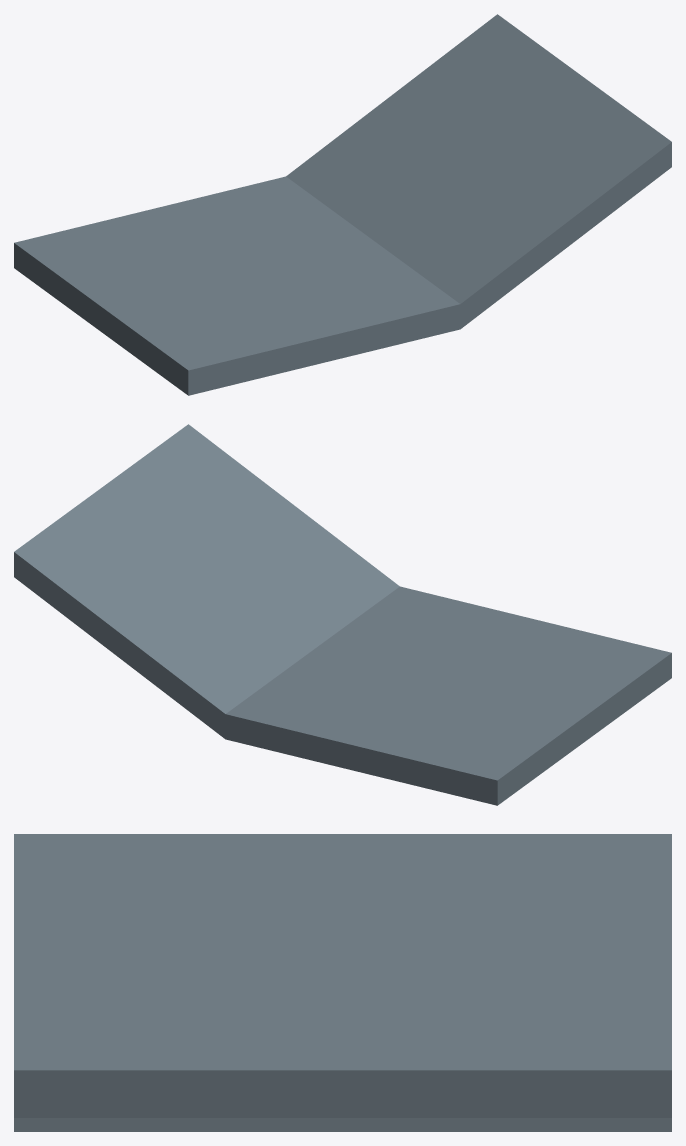
Rendered from Scrap_FoldedPanel.fbx.
3 views of the same model, one above another, from view 1: azimuth 30°, elevation 25°; view 2: azimuth 150°, elevation 25°; view 3: azimuth 270°, elevation 25° (orthographic). The views are drawn at different scales.
Parts seen in each view (by area): view 1: Scrap_FoldedPanel; view 2: Scrap_FoldedPanel; view 3: Scrap_FoldedPanel.
Boxes of the visible parts, <box> form: Scrap_FoldedPanel: <box>14,14,671,395</box>; Scrap_FoldedPanel: <box>14,424,671,805</box>; Scrap_FoldedPanel: <box>14,834,671,1131</box>.
Bounding box in the file's own units: 160 × 43 × 100.
